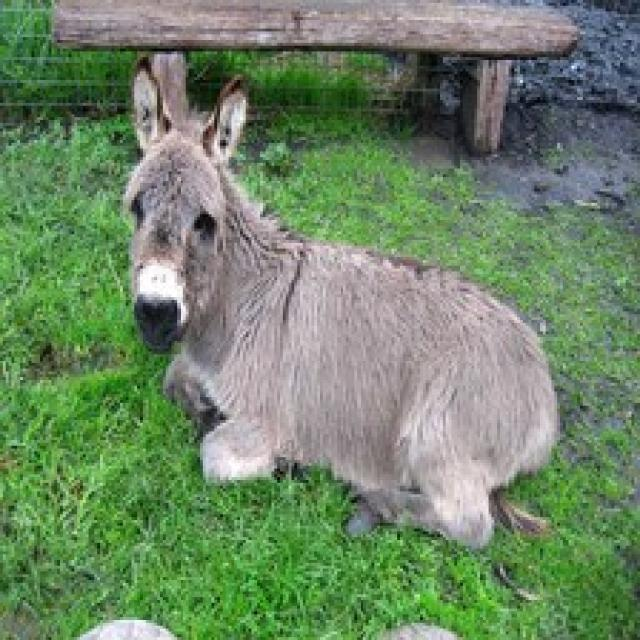Donkey: (75, 52, 573, 588)
